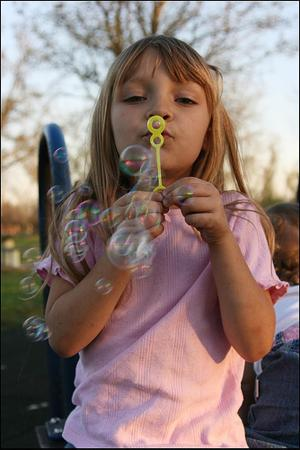person: (47, 35, 279, 442)
